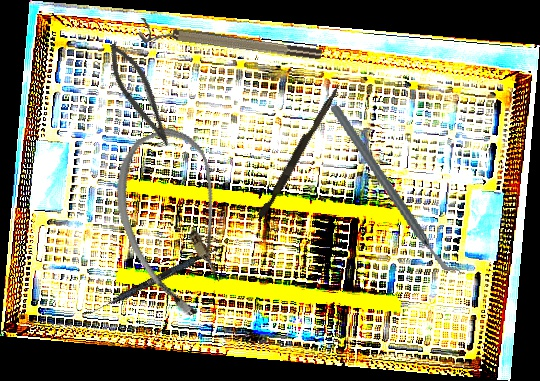Cannula: (95, 118, 259, 327)
Chopper: (329, 87, 461, 292)
Fixation Ring: (137, 17, 323, 71)
Micro Scissor: (97, 38, 184, 151)
Pusher: (257, 80, 342, 221)
Spatula Surgical: (82, 239, 226, 322)
